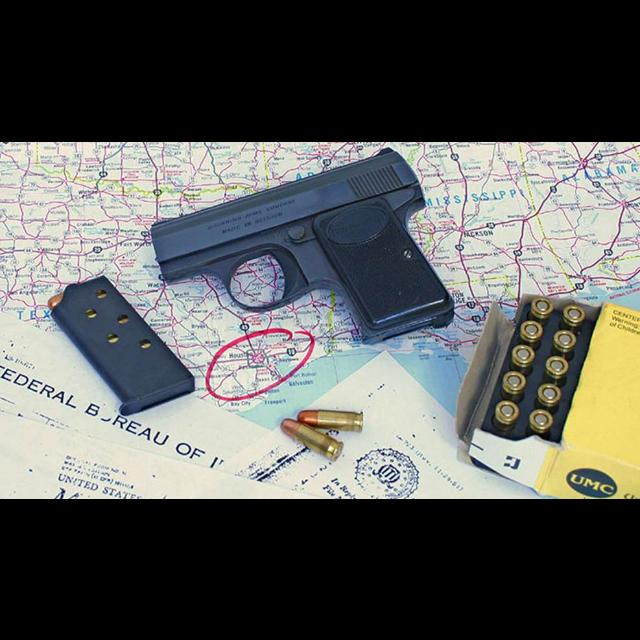handgun: (146, 146, 458, 348)
